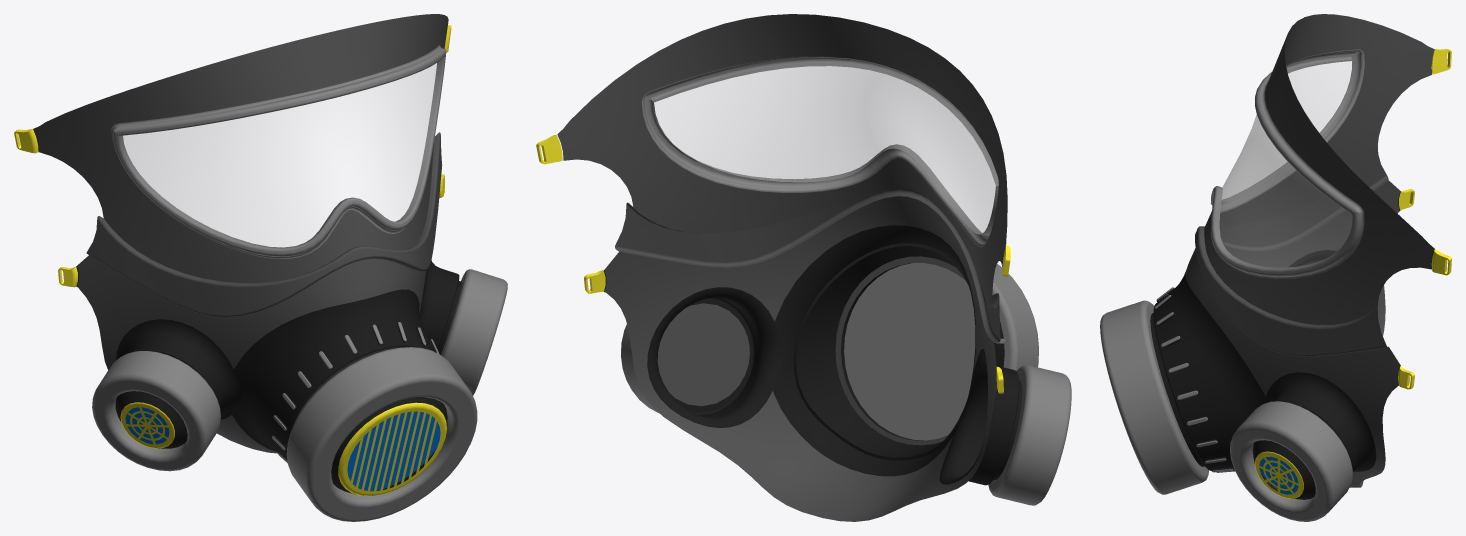
3 views of the same model, side by side, from view 1: azimuth 30°, elevation 25°; view 2: azimuth 150°, elevation 25°; view 3: azimuth 270°, elevation 25° (orthographic). The views are drawn at different scales.
Visible parts, largest first — view 1: BRep_25; view 2: BRep_25; view 3: BRep_25, BRep_8, BRep_3.
Boxes of the visible parts, box(x1,y1,x2,y2) form: BRep_25: box(33, 14, 507, 521); BRep_25: box(557, 14, 1071, 521); BRep_25: box(1100, 14, 1434, 521); BRep_8: box(1431, 49, 1451, 74); BRep_3: box(1431, 249, 1451, 275).
Size of the model in its own units: 225 by 217 by 159.
